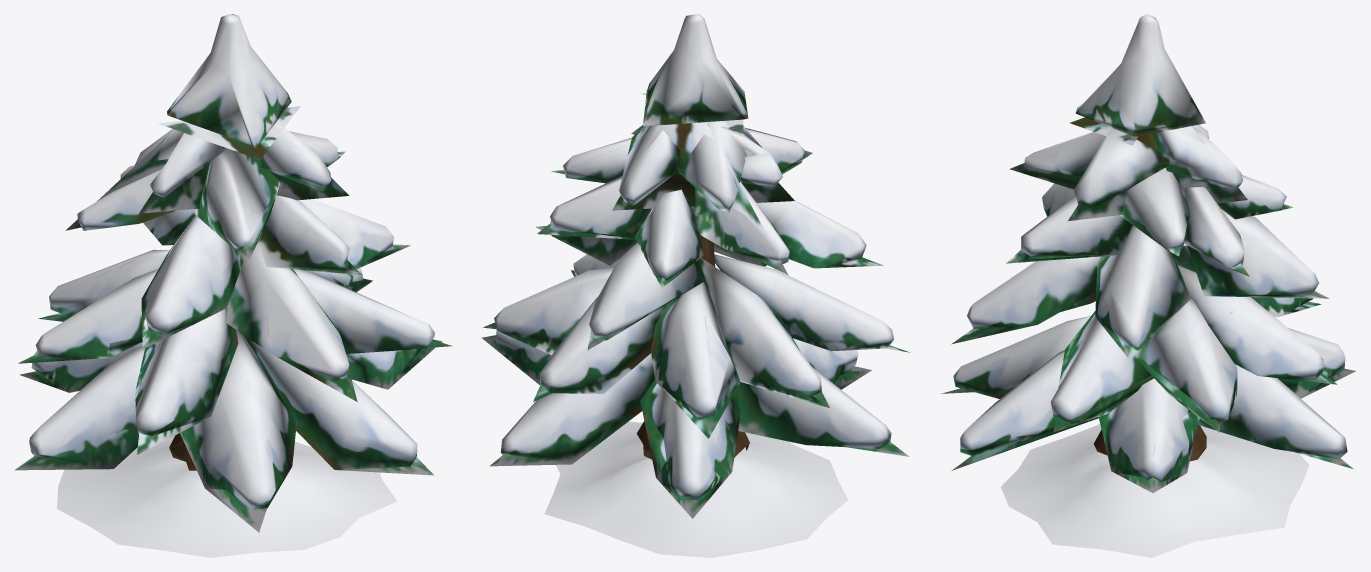
Rendered from SKI_PROP_Pine_B-MedVtXc-.glb.
3 renders of one model, left to right at view 1: azimuth 30°, elevation 25°; view 2: azimuth 150°, elevation 25°; view 3: azimuth 270°, elevation 25°, orthographic. The views are drawn at different scales.
Parts seen in each view (by area): view 1: SKI_PROP_Pine_B; view 2: SKI_PROP_Pine_B; view 3: SKI_PROP_Pine_B.
Part boxes in pixels (x1=…): SKI_PROP_Pine_B: x1=14, y1=14, x2=452, y2=557; SKI_PROP_Pine_B: x1=481, y1=14, x2=909, y2=557; SKI_PROP_Pine_B: x1=941, y1=14, x2=1355, y2=557.
Bounding box in the file's own units: 5.19 × 5.5 × 4.39.
Materials: 1 (1 with a texture image).
